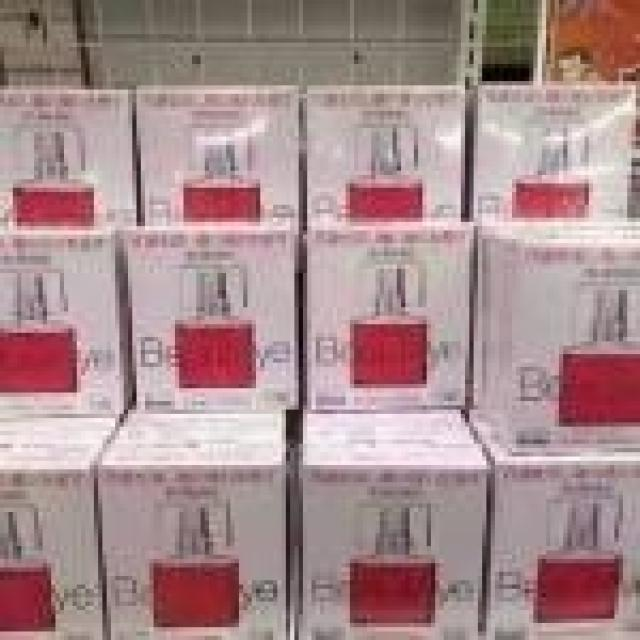Carton: (0, 90, 299, 636), (299, 90, 482, 636), (478, 81, 636, 452), (491, 461, 636, 636)
